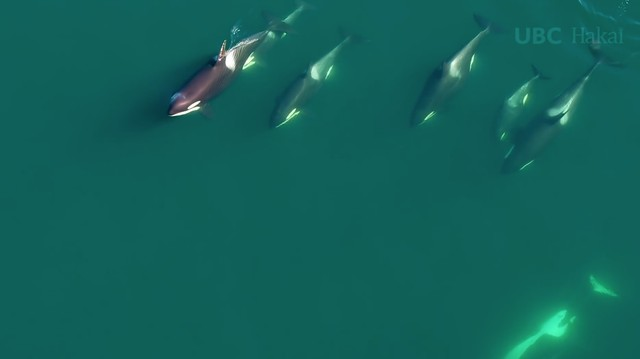whale: (489, 28, 623, 190), (144, 4, 302, 128), (395, 7, 511, 138), (262, 20, 368, 139), (477, 61, 553, 156)
